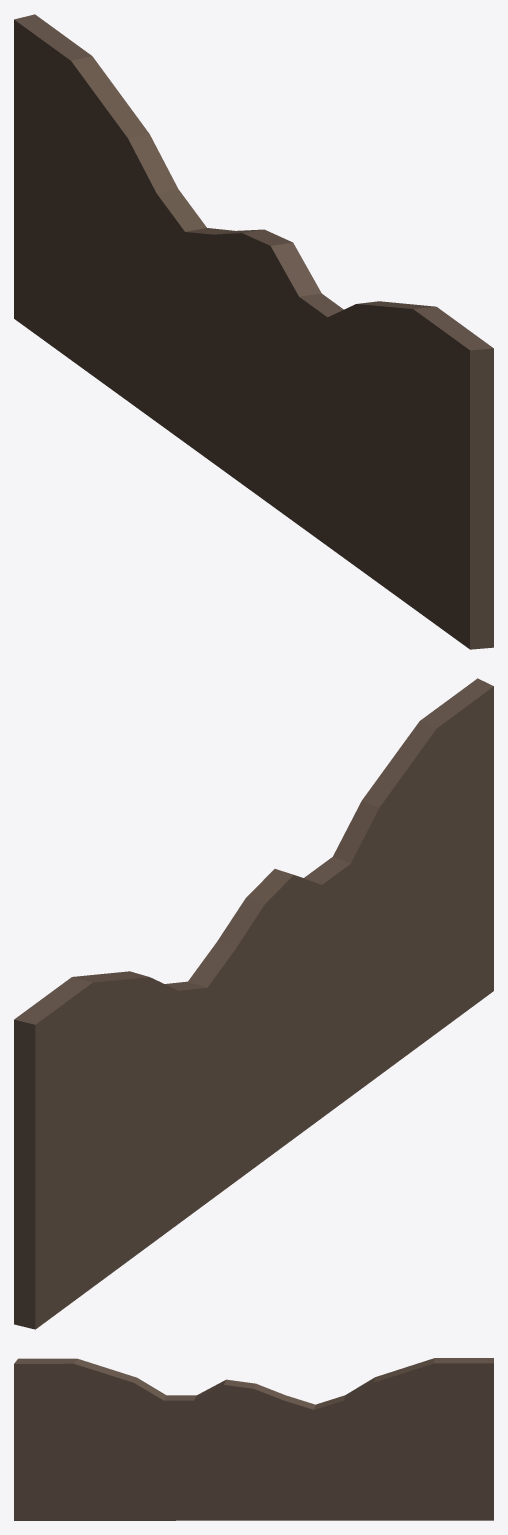
3 views of the same model, one above another, from view 1: azimuth 30°, elevation 25°; view 2: azimuth 150°, elevation 25°; view 3: azimuth 270°, elevation 25° (orthographic). The views are drawn at different scales.
Parts seen in each view (by area): view 1: Cube.055; view 2: Cube.055; view 3: Cube.055.
Boxes of the visible parts, bbox=[...] form: Cube.055: bbox=[14, 14, 493, 649]; Cube.055: bbox=[14, 678, 493, 1329]; Cube.055: bbox=[14, 1358, 493, 1520].
Bounding box in the file's own units: 0.103 × 1.28 × 3.56.
